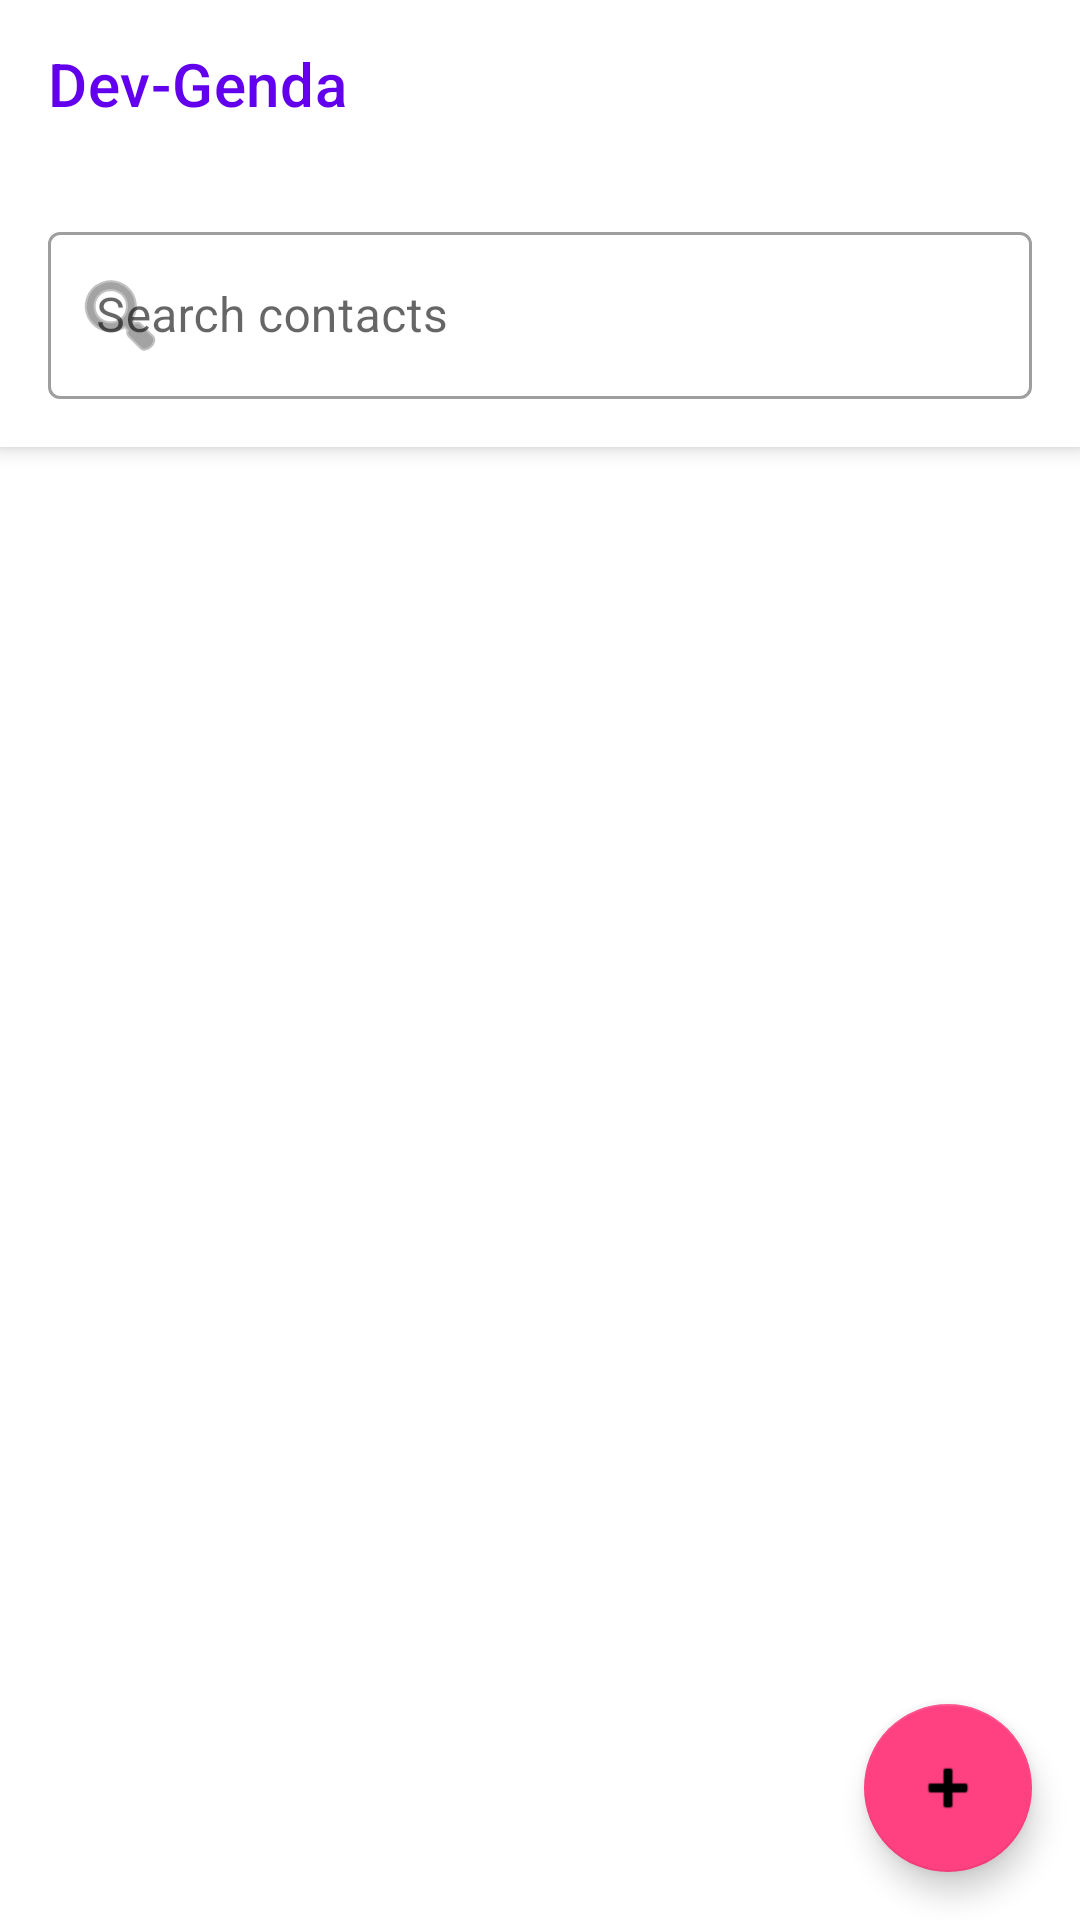

Screen size 1080*1920. Icon name, then its center in pixels as (x=x, y=y):
Add contact: (x=948, y=1788)
